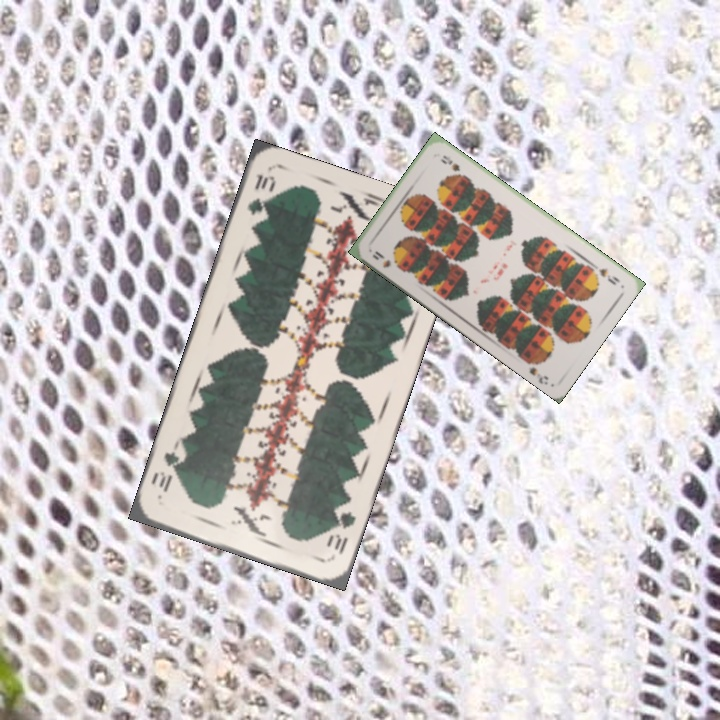G10: (322, 500, 359, 558), (243, 170, 278, 218)
S9: (368, 247, 404, 272), (595, 264, 623, 288)
